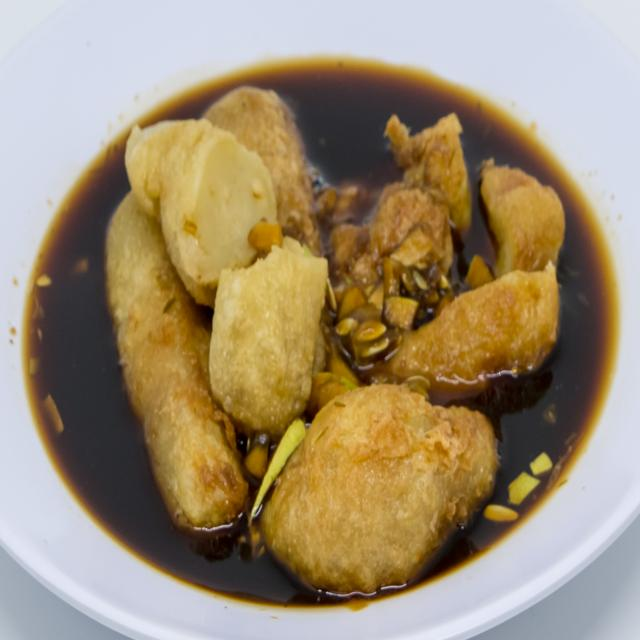Pempek-Palembang: (96, 55, 578, 604)
